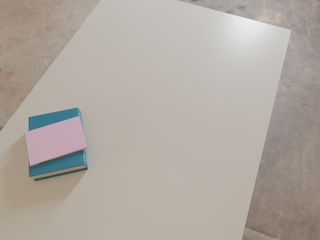book: (29, 108, 88, 181), (25, 117, 87, 166)
